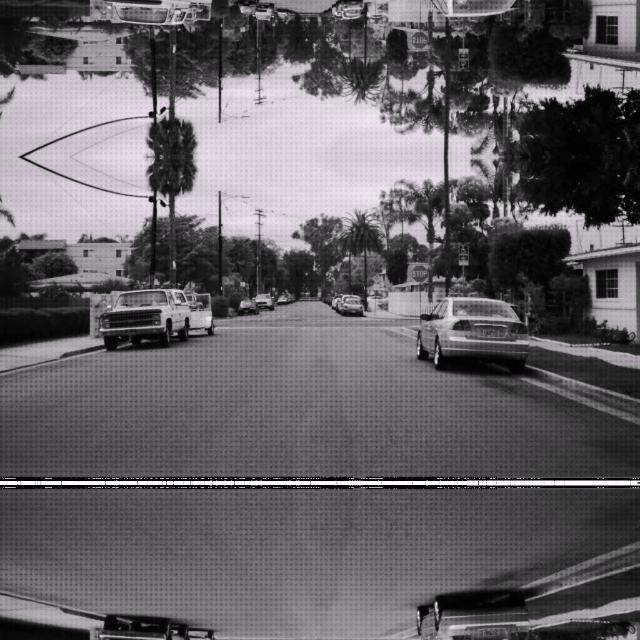stop: (410, 263, 428, 281), (410, 31, 428, 49)
